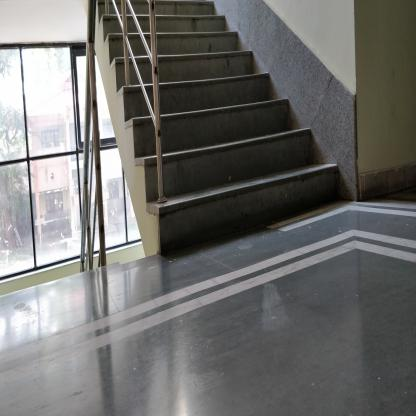stairs: (170, 25, 239, 255)
